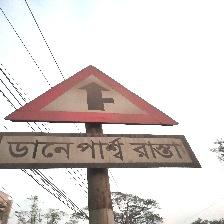Side-road-right: (1, 64, 197, 169)
